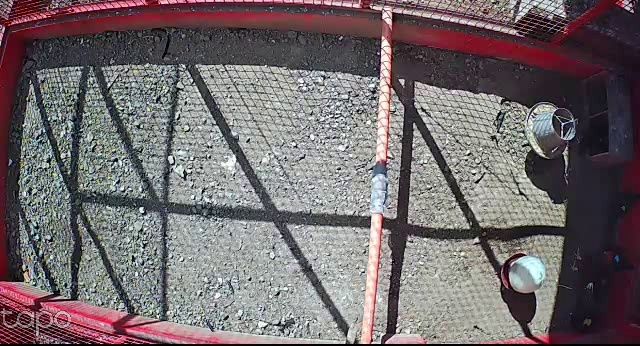Chicken: (609, 185, 640, 232)
Drinker: (498, 252, 547, 293)
Feeder: (525, 101, 581, 162)
